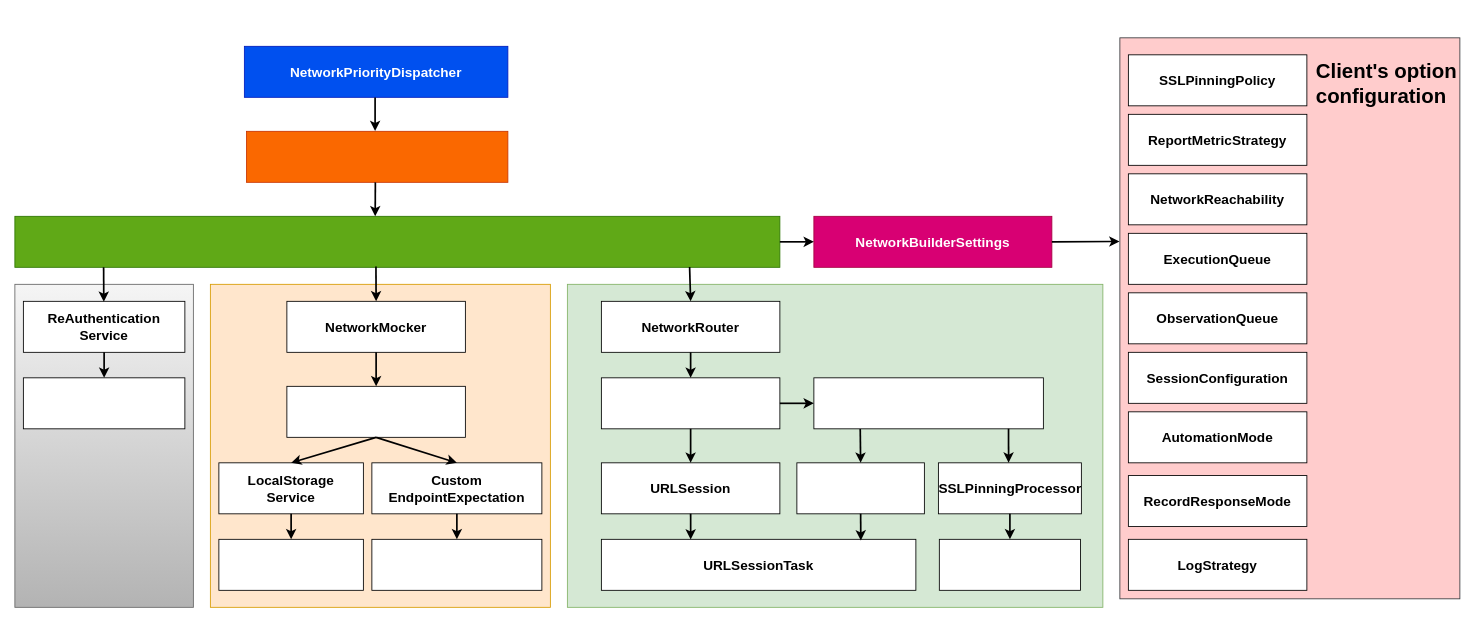
Image size: 1475x629. Some labels were removed from this diagram. The shapes that lost their labels are listed below. From the top down, each one's box as (x1, y1, x2, y2) in pixels, then its label:
(246, 130, 508, 182): PriorityAction Filer
(14, 215, 780, 267): NetworkBuilder
(23, 377, 185, 429): Client handler
(286, 385, 465, 437): NetworkMockHandler
(601, 377, 780, 429): NetworkSessionExecutor
(813, 377, 1043, 429): SessionProxyDelegate (URLSessionDataDelegate)
(796, 462, 924, 514): MetricsCollector
(218, 538, 363, 590): FileManager
(371, 538, 542, 590): Client provide expectation
(938, 538, 1081, 590): URLAuthentication Challenge
